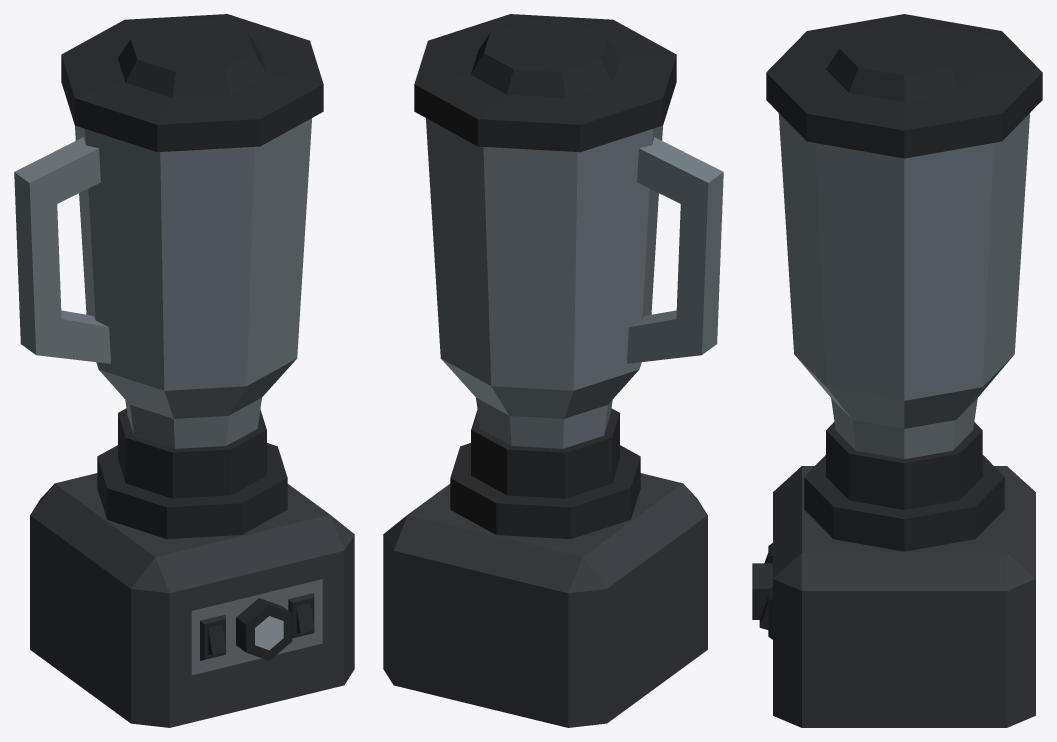
Rendered from Blender.fbx.
The picture shows the model from 3 angles, left to right: view 1: azimuth 30°, elevation 25°; view 2: azimuth 150°, elevation 25°; view 3: azimuth 270°, elevation 25°; orthographic projection.
Visible parts, largest first — view 1: Blender; view 2: Blender; view 3: Blender.
Part boxes in pixels (bbox=[...]): Blender: bbox=[14, 14, 354, 727]; Blender: bbox=[383, 14, 723, 727]; Blender: bbox=[752, 14, 1042, 727].
Size of the model in its own units: 26.5 by 53.91 by 22.72.
Materials: 1 (1 with a texture image).
